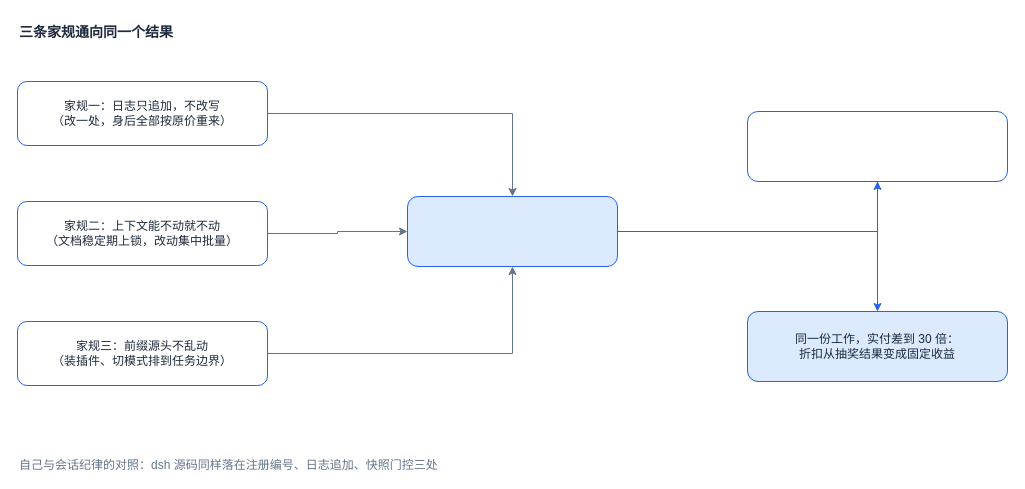
Image size: 1025x489. Some labels were removed from this diagram. The shapes that lost their labels are listed below. From the top down, each one's centre as x and y in pixels, then its label:
pixel 877 146: 缓存命中率上去了 （自家长会话 92%–98%，dsh 第三方横测约 99.93%）
pixel 512 231: 每一轮请求的前缀 逐字节稳定
